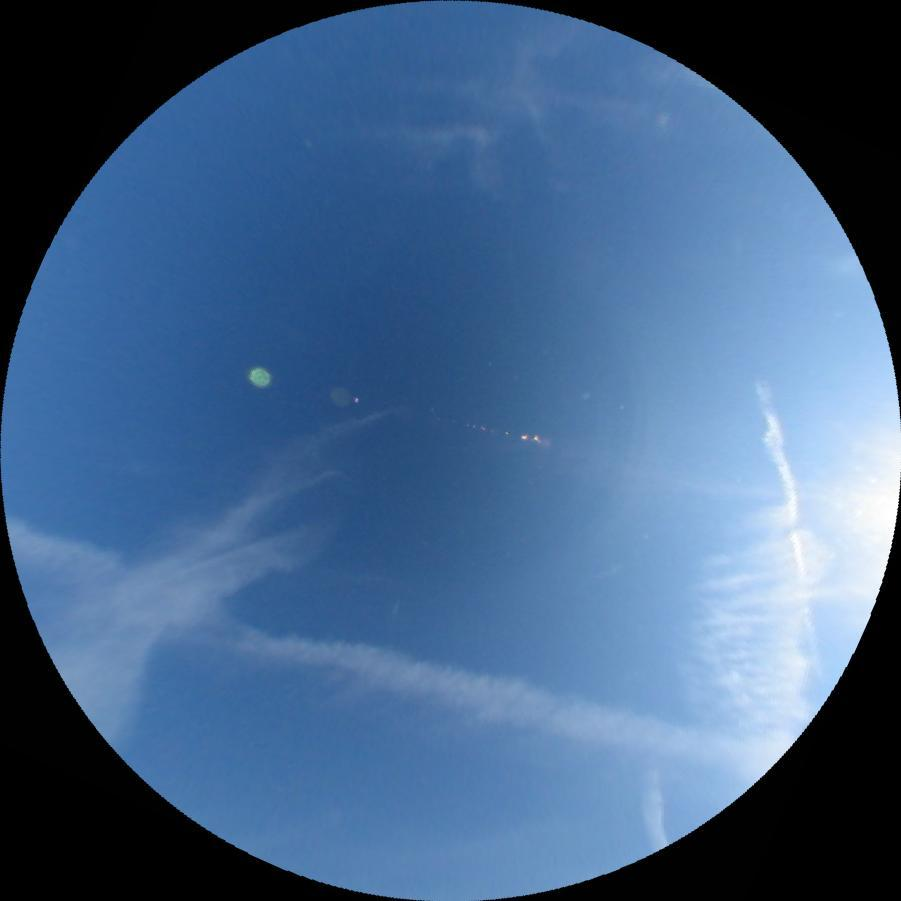contrail old: (748, 380, 840, 686), (640, 771, 669, 853)
contrail veryold: (0, 520, 756, 796), (665, 493, 840, 789)
